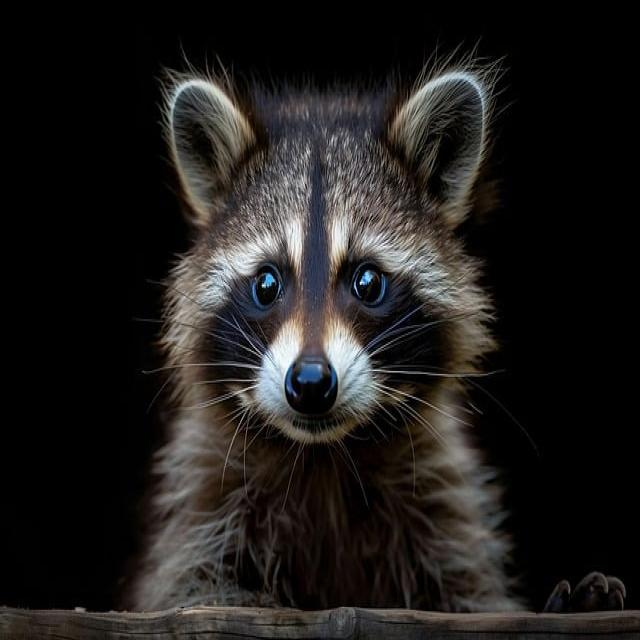Raccoon: (140, 60, 507, 640)
